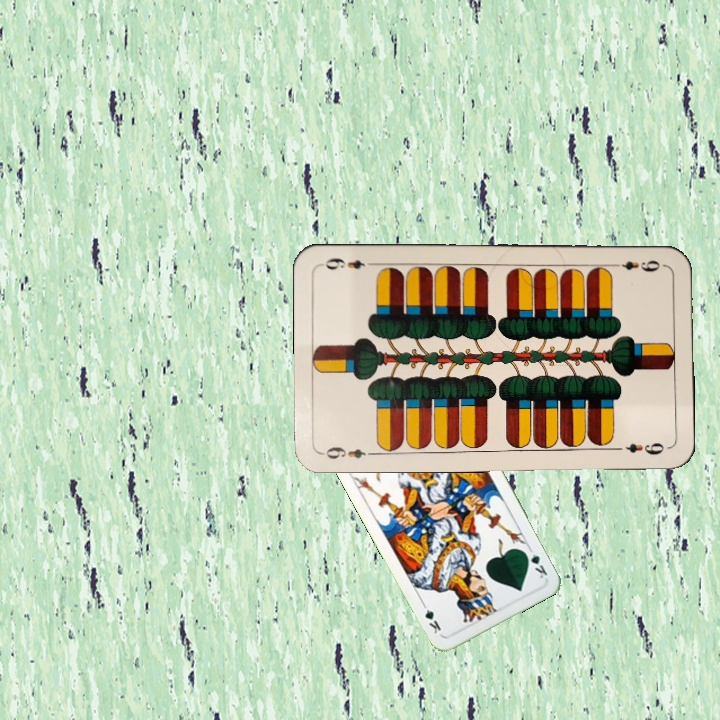E9: (319, 443, 378, 462), (608, 256, 662, 275)
GK: (520, 543, 550, 581)
